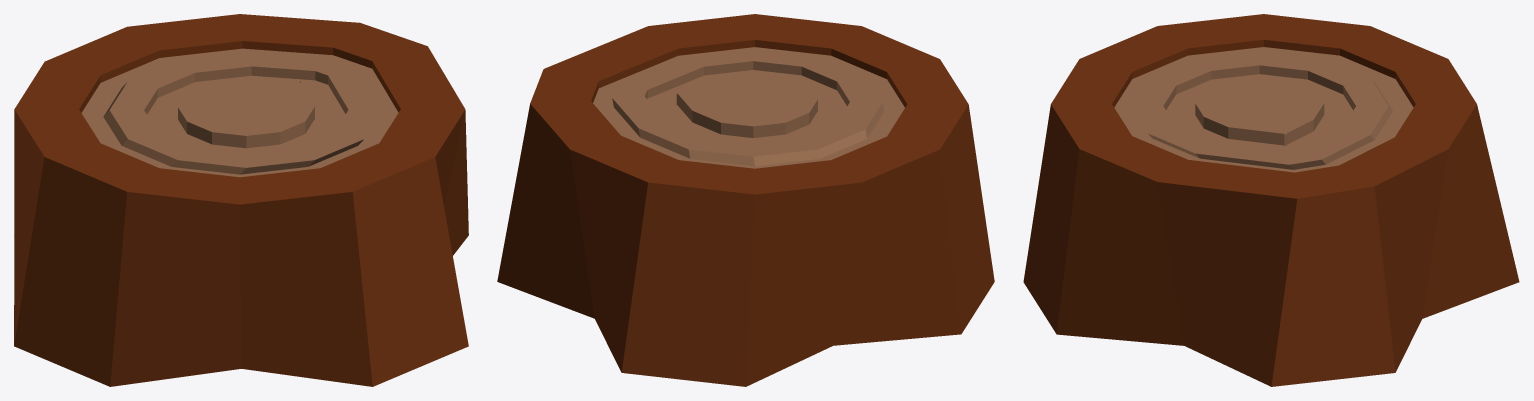
Rendered from stump.glb.
The picture shows the model from 3 angles, left to right: view 1: azimuth 30°, elevation 25°; view 2: azimuth 150°, elevation 25°; view 3: azimuth 270°, elevation 25°; orthographic projection. The views are drawn at different scales.
Visible parts, largest first — view 1: chrismas tree 23; view 2: chrismas tree 23; view 3: chrismas tree 23.
Part boxes in pixels (bbox=[...]): chrismas tree 23: bbox=[14, 14, 468, 386]; chrismas tree 23: bbox=[497, 14, 994, 386]; chrismas tree 23: bbox=[1023, 14, 1519, 386].
Bounding box in the file's own units: 0.2732 × 0.1083 × 0.2732.
